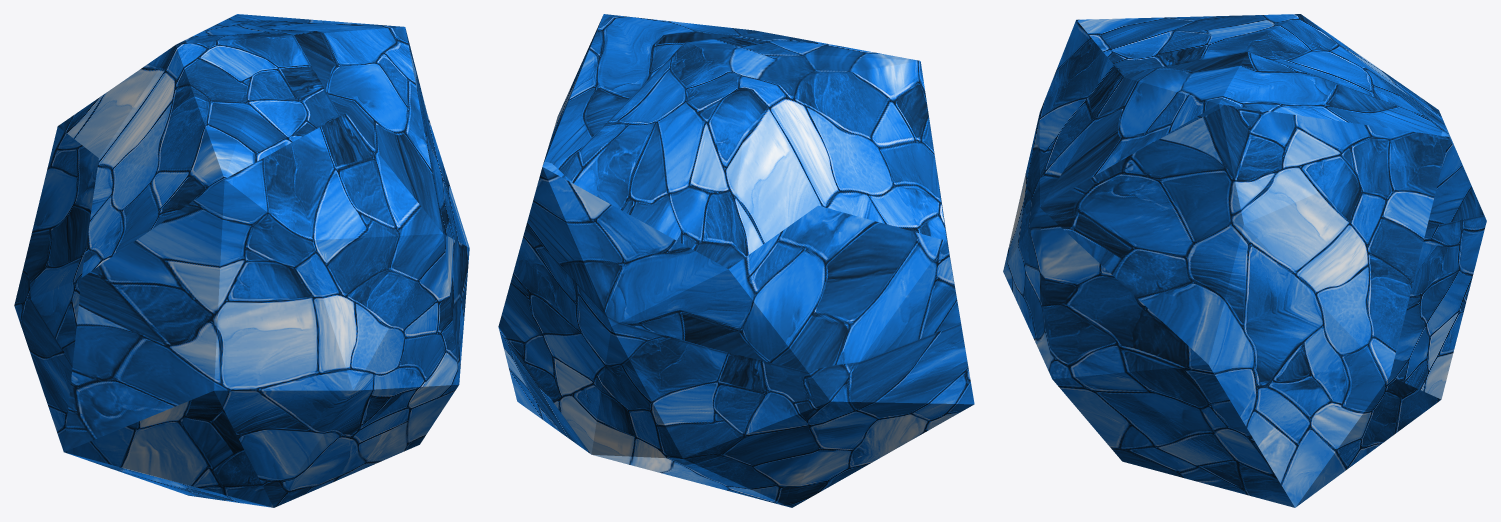
File: star3Blue.glb
3 views of the same model, side by side, from view 1: azimuth 30°, elevation 25°; view 2: azimuth 150°, elevation 25°; view 3: azimuth 270°, elevation 25° (orthographic). The views are drawn at different scales.
Parts seen in each view (by area): view 1: star3; view 2: star3; view 3: star3.
Part boxes in pixels (bbox=[...]): star3: bbox=[14, 14, 469, 507]; star3: bbox=[498, 14, 974, 507]; star3: bbox=[1003, 14, 1486, 507].
Bounding box in the file's own units: 1 × 1 × 1.
1 material, 1 textured.
